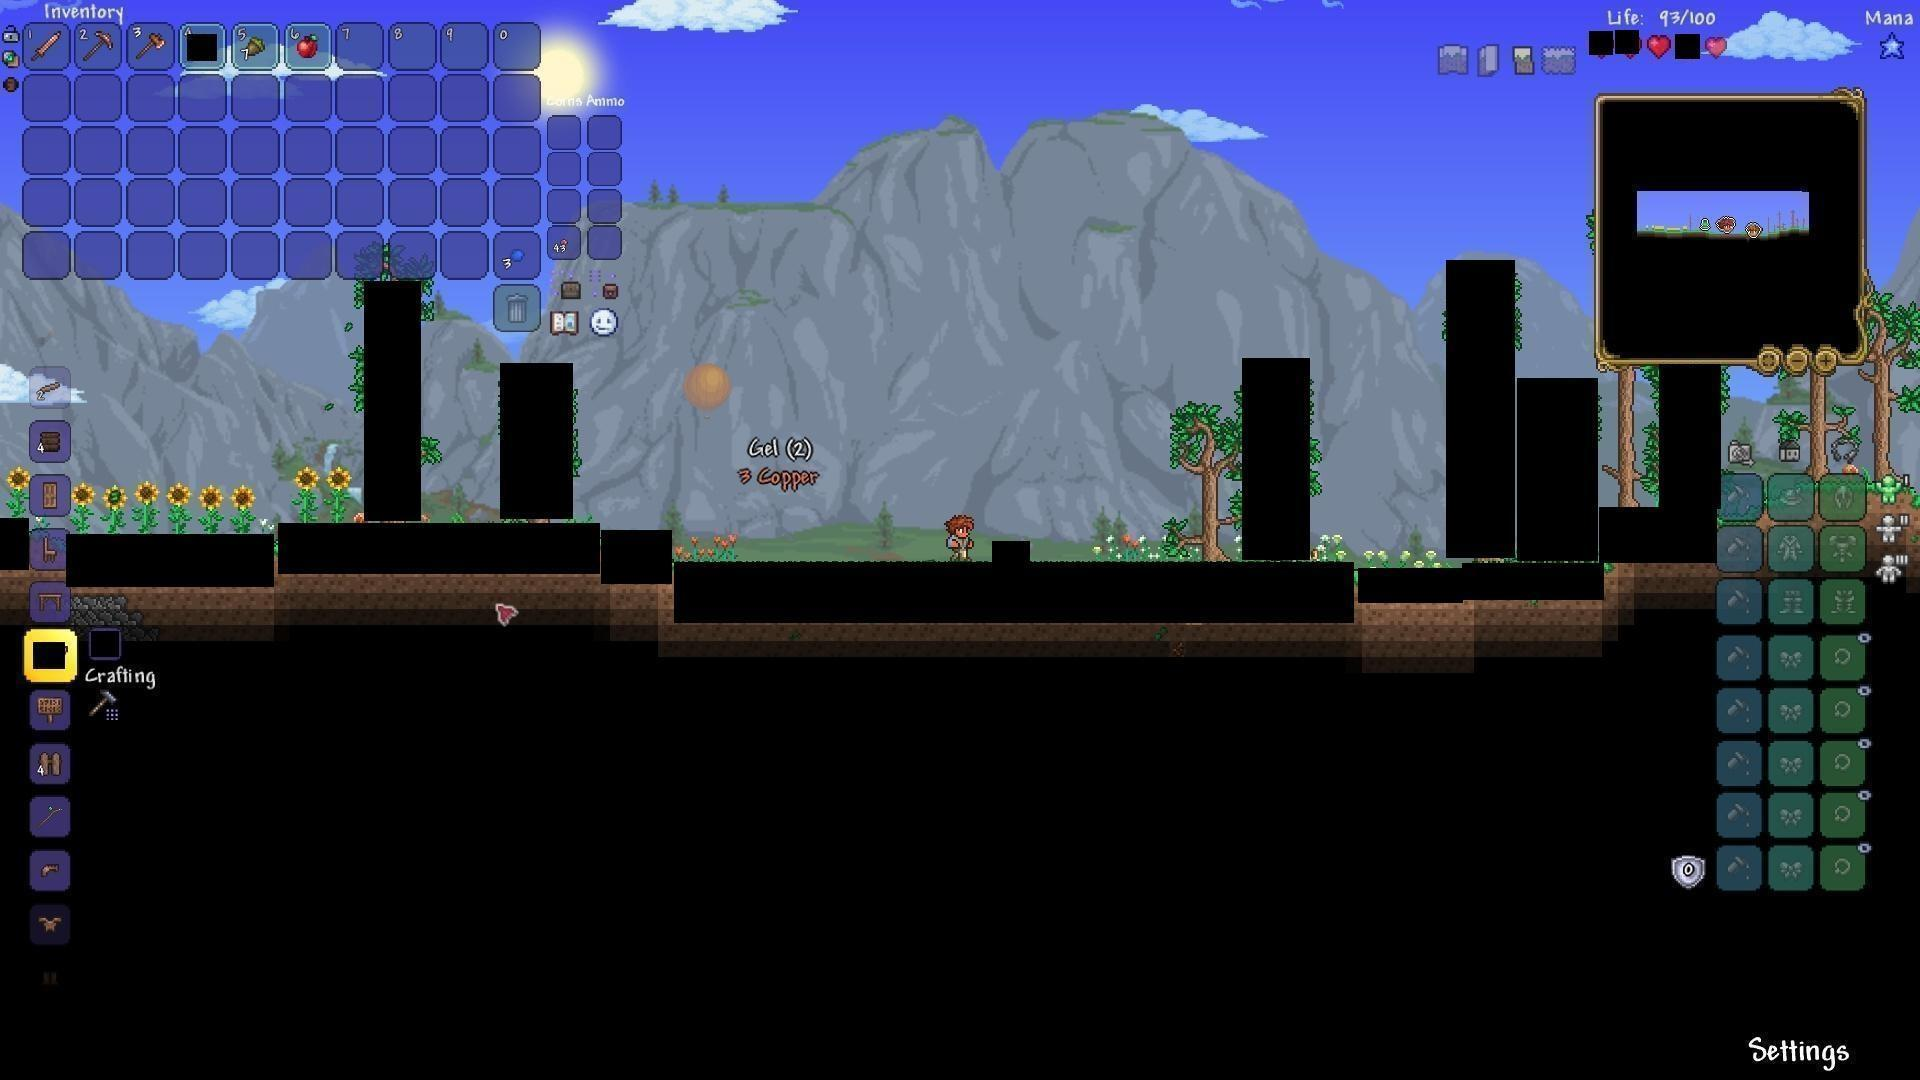breastplate: (36, 914, 66, 935)
heart: (1648, 32, 1672, 58)
helmet: (36, 858, 63, 884)
tree: (1168, 396, 1238, 560), (1869, 298, 1911, 483), (1788, 368, 1855, 477), (1607, 367, 1644, 504)
